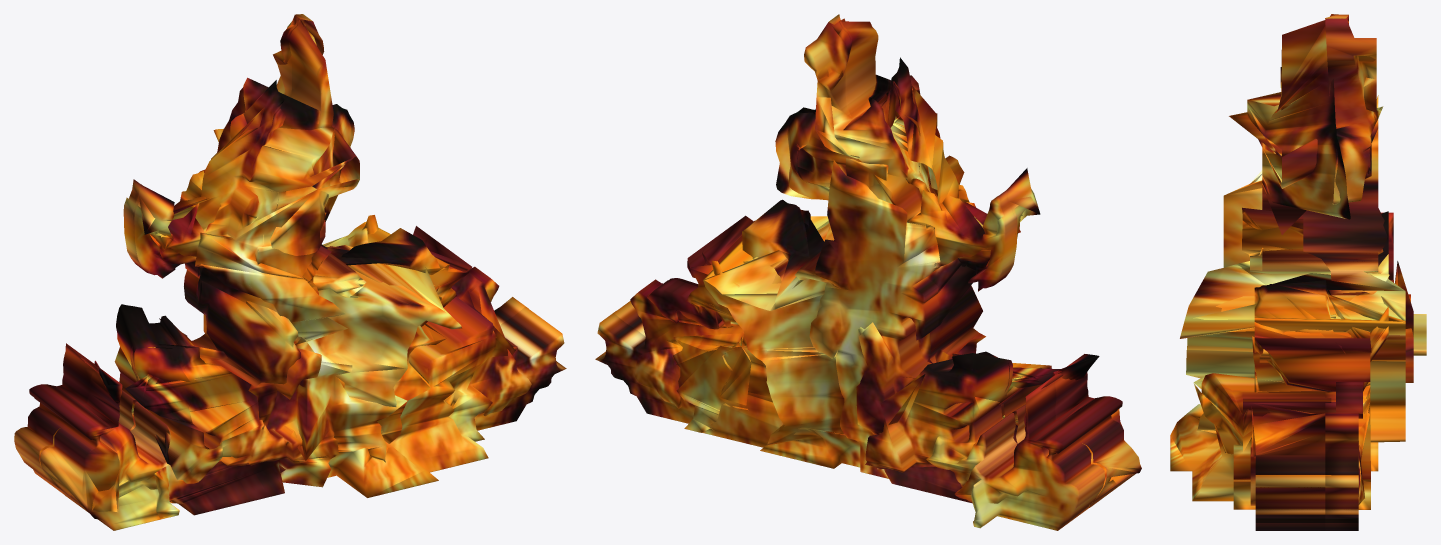
The model's file is Fire.dae.
3 renders of one model, left to right at view 1: azimuth 30°, elevation 25°; view 2: azimuth 150°, elevation 25°; view 3: azimuth 270°, elevation 25°, orthographic. The views are drawn at different scales.
Visible parts, largest first — view 1: group_0 (×2); view 2: group_0 (×2); view 3: group_0 (×3).
Boxes of the visible parts, x1=… form: group_0 (×2): x1=14, y1=14, x2=566, y2=530; group_0 (×2): x1=595, y1=14, x2=1141, y2=530; group_0 (×3): x1=1170, y1=14, x2=1426, y2=530.
Bounding box in the file's own units: 624 × 278 × 511.
2 materials, 2 textured.
